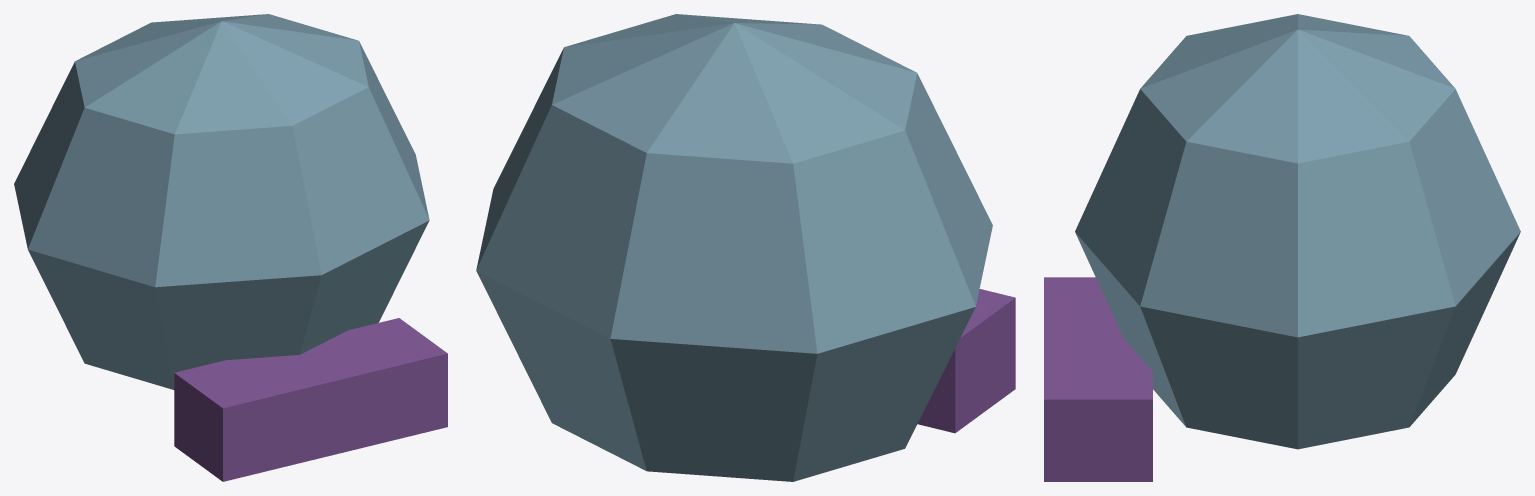
File: hostile_head_frost.glb
3 renders of one model, left to right at view 1: azimuth 30°, elevation 25°; view 2: azimuth 150°, elevation 25°; view 3: azimuth 270°, elevation 25°, orthographic. The views are drawn at different scales.
Parts seen in each view (by area): view 1: hostile_head_frost; view 2: hostile_head_frost; view 3: hostile_head_frost.
Part boxes in pixels (x1=…): hostile_head_frost: x1=14, y1=14, x2=447, y2=481; hostile_head_frost: x1=476, y1=14, x2=1015, y2=481; hostile_head_frost: x1=1044, y1=14, x2=1520, y2=481.
Size of the model in its own units: 0.552 by 0.492 by 0.526.
